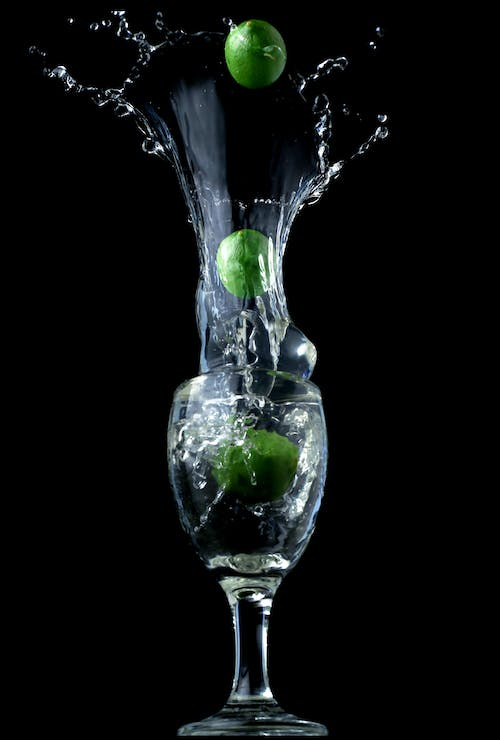alcohol: (165, 364, 330, 740)
